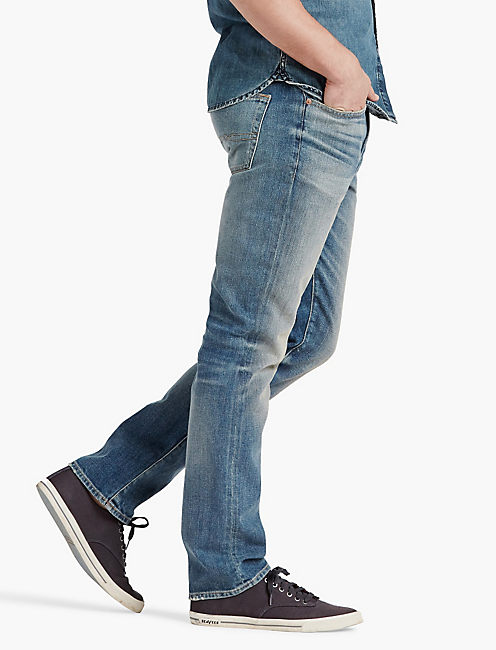Jeans: (70, 82, 377, 597)
